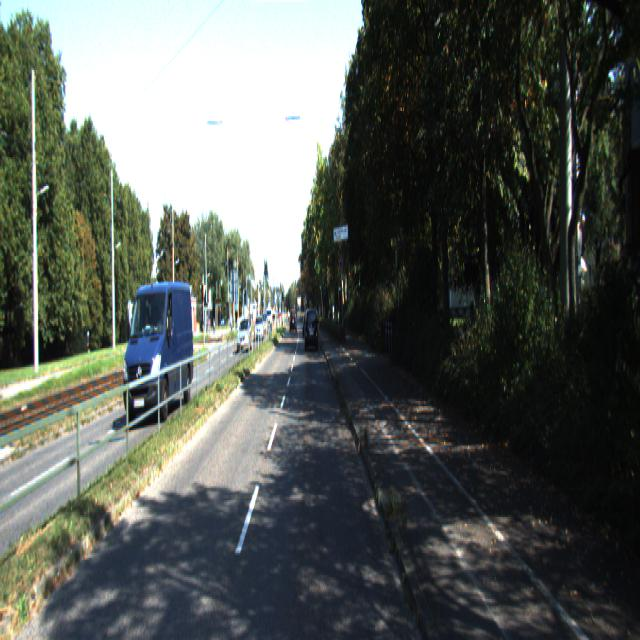Car: (122, 272, 194, 428), (305, 307, 319, 352), (237, 317, 253, 353)
